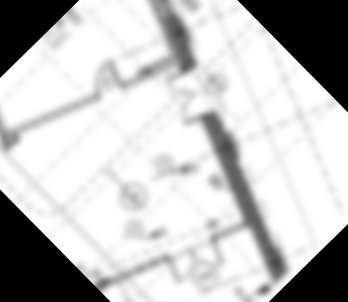double door: (159, 223, 234, 298), (150, 60, 225, 134)
wall: (4, 65, 109, 168), (0, 88, 25, 147)
